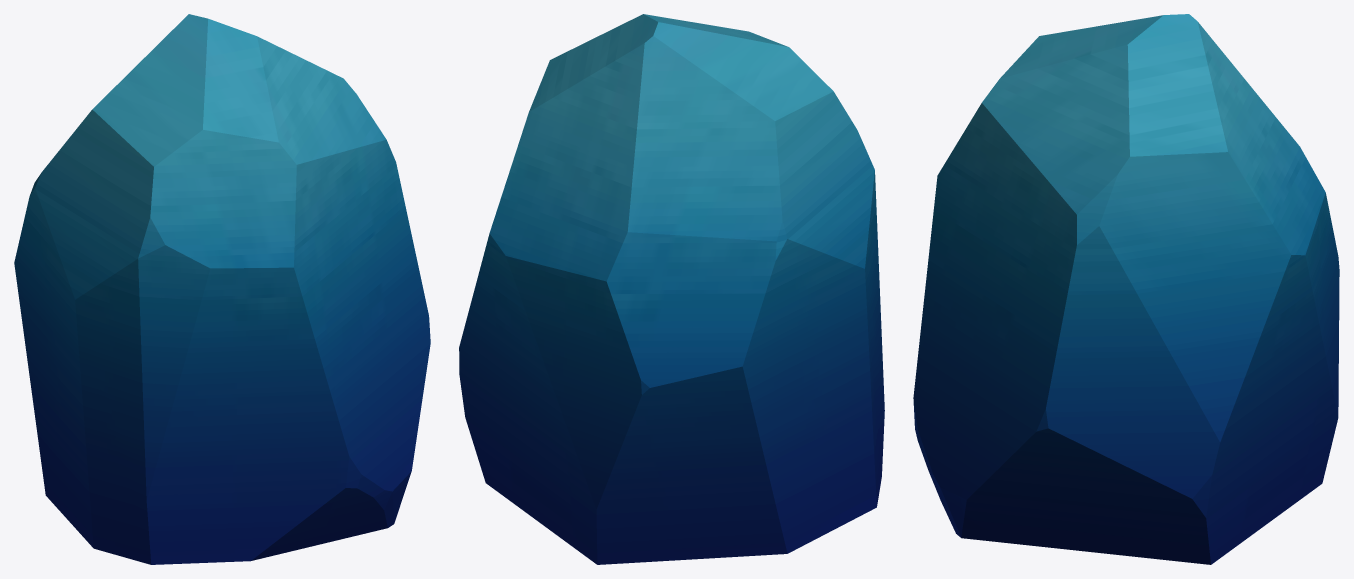
The model's file is rocaesmeralda_10.fbx.
The picture shows the model from 3 angles, left to right: view 1: azimuth 30°, elevation 25°; view 2: azimuth 150°, elevation 25°; view 3: azimuth 270°, elevation 25°; orthographic projection. The views are drawn at different scales.
Visible parts, largest first — view 1: cueva05; view 2: cueva05; view 3: cueva05.
Boxes of the visible parts, x1=… form: cueva05: x1=14, y1=14, x2=430, y2=564; cueva05: x1=459, y1=14, x2=884, y2=564; cueva05: x1=913, y1=14, x2=1339, y2=564.
Bounding box in the file's own units: 621 × 810 × 655.
Materials: 1 (1 with a texture image).
